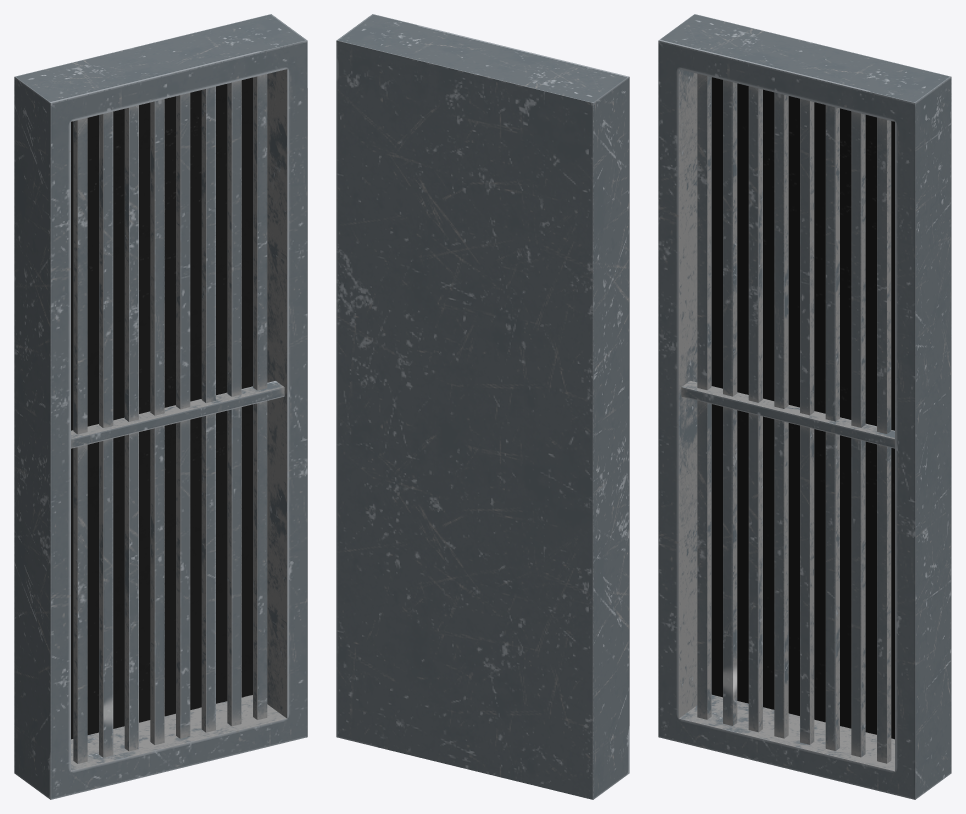
Rendered from VentBig.gltf.
3 views of the same model, side by side, from view 1: azimuth 30°, elevation 25°; view 2: azimuth 150°, elevation 25°; view 3: azimuth 330°, elevation 25° (orthographic).
Parts seen in each view (by area): view 1: Cube.037; view 2: Cube.037; view 3: Cube.037.
Part boxes in pixels (x1,y1,x2,y2): Cube.037: [14, 14, 307, 799]; Cube.037: [336, 14, 629, 799]; Cube.037: [658, 14, 951, 799].
Size of the model in its own units: 2.46 by 6.38 by 0.6005.
1 material, 1 textured.
